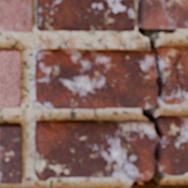brick: (38, 0, 134, 30), (140, 0, 187, 27), (0, 123, 21, 183), (0, 49, 20, 107), (0, 0, 31, 31), (131, 185, 187, 187)
broken_brick: (34, 119, 157, 181), (34, 49, 156, 109), (156, 114, 187, 176), (158, 45, 187, 100), (163, 72, 184, 105)
crack: (132, 2, 187, 185)
